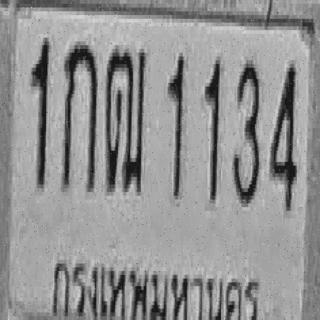A01: (62, 38, 97, 192)
A18: (105, 42, 147, 192)
N01: (30, 34, 50, 188), (167, 51, 184, 198), (204, 55, 220, 202)
N03: (232, 56, 260, 204)
N04: (270, 60, 297, 211)
P04: (45, 244, 263, 320)
